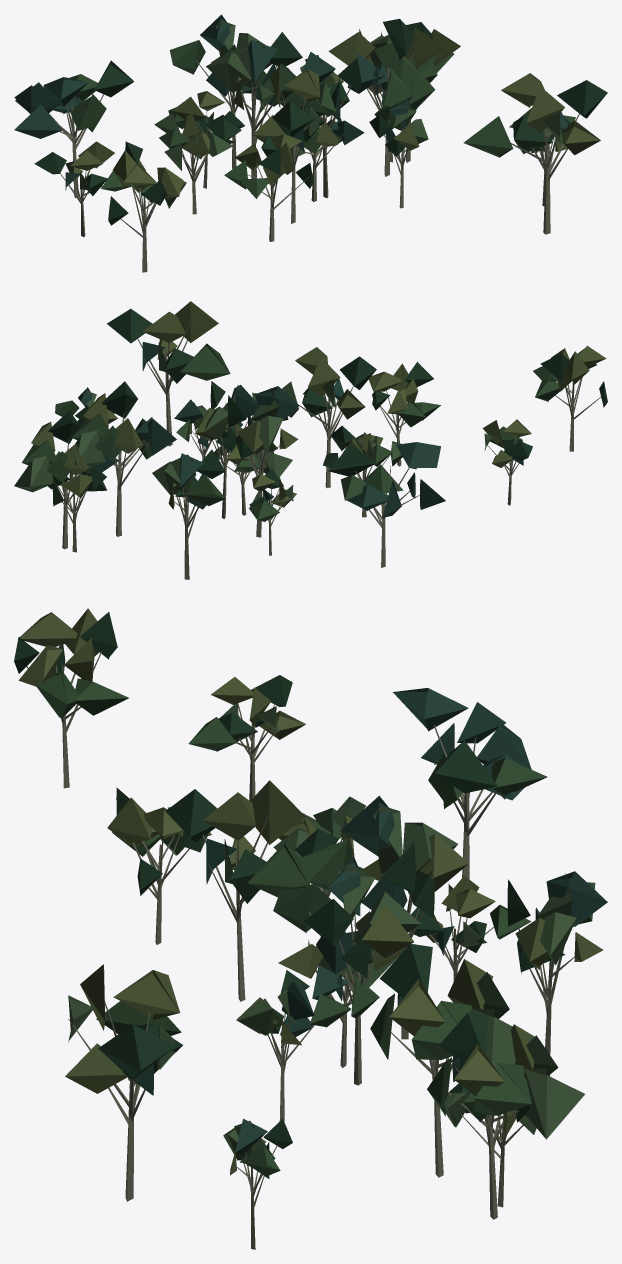
File: forest_24_23.dae
3 renders of one model, top to bottom at view 1: azimuth 30°, elevation 25°; view 2: azimuth 150°, elevation 25°; view 3: azimuth 270°, elevation 25°, orthographic. The views are drawn at different scales.
Visible parts, largest first — view 1: Node; view 2: Node; view 3: Node.
Part boxes in pixels (x1=…): Node: x1=14, y1=14, x2=607, y2=272; Node: x1=14, y1=301, x2=607, y2=579; Node: x1=14, y1=608, x2=607, y2=1249.
Bounding box in the file's own units: 11.38 × 7.57 × 4.43.
